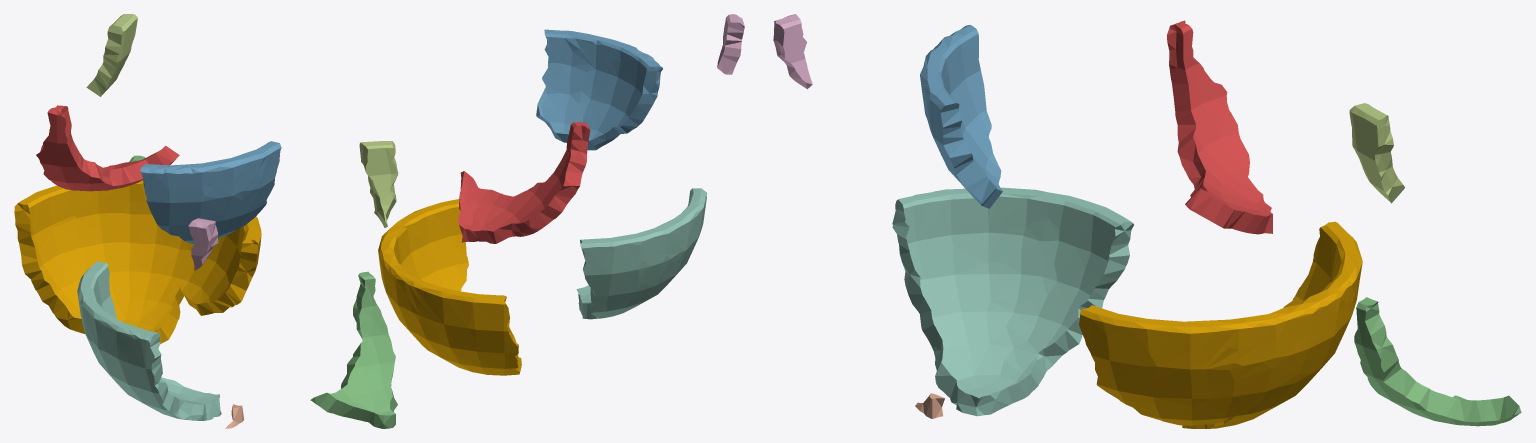
Rendered from fractured_46_8pcs_transformed.glb.
3 renders of one model, left to right at view 1: azimuth 30°, elevation 25°; view 2: azimuth 150°, elevation 25°; view 3: azimuth 270°, elevation 25°, orthographic. The views are drawn at different scales.
Visible parts, largest first — view 1: piece_0.obj, piece_2.obj, piece_4.obj, piece_1.obj, piece_5.obj, piece_6.obj, piece_7.obj; view 2: piece_0.obj, piece_2.obj, piece_4.obj, piece_1.obj, piece_3.obj, piece_5.obj, piece_6.obj; view 3: piece_4.obj, piece_0.obj, piece_1.obj, piece_2.obj, piece_3.obj, piece_5.obj, piece_6.obj.
Part boxes in pixels (x1,y1,x2,y2): piece_0.obj: [14, 180, 261, 343]; piece_2.obj: [140, 141, 281, 243]; piece_4.obj: [77, 261, 221, 420]; piece_1.obj: [36, 105, 179, 191]; piece_5.obj: [86, 14, 137, 96]; piece_6.obj: [188, 218, 218, 270]; piece_7.obj: [225, 404, 244, 428]; piece_0.obj: [378, 199, 521, 375]; piece_2.obj: [536, 29, 662, 150]; piece_4.obj: [576, 188, 707, 319]; piece_1.obj: [458, 122, 590, 243]; piece_3.obj: [310, 271, 397, 428]; piece_5.obj: [359, 141, 398, 227]; piece_6.obj: [717, 14, 744, 74]; piece_4.obj: [892, 187, 1133, 416]; piece_0.obj: [1079, 221, 1362, 428]; piece_1.obj: [1167, 20, 1272, 234]; piece_2.obj: [920, 25, 1002, 208]; piece_3.obj: [1354, 297, 1521, 426]; piece_5.obj: [1349, 103, 1404, 203]; piece_6.obj: [773, 14, 812, 89].
Size of the model in its own units: 0.9989 by 1.11 by 2.2.
